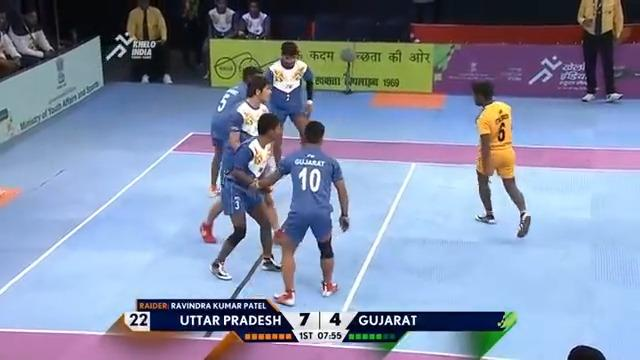Player: (254, 120, 350, 305), (208, 112, 283, 280), (199, 66, 266, 243), (261, 40, 314, 160)
Raider: (470, 80, 531, 237)
referee: (575, 0, 624, 102), (124, 0, 173, 84)
